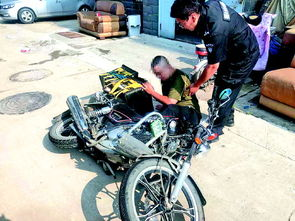fall: (137, 47, 212, 148)
